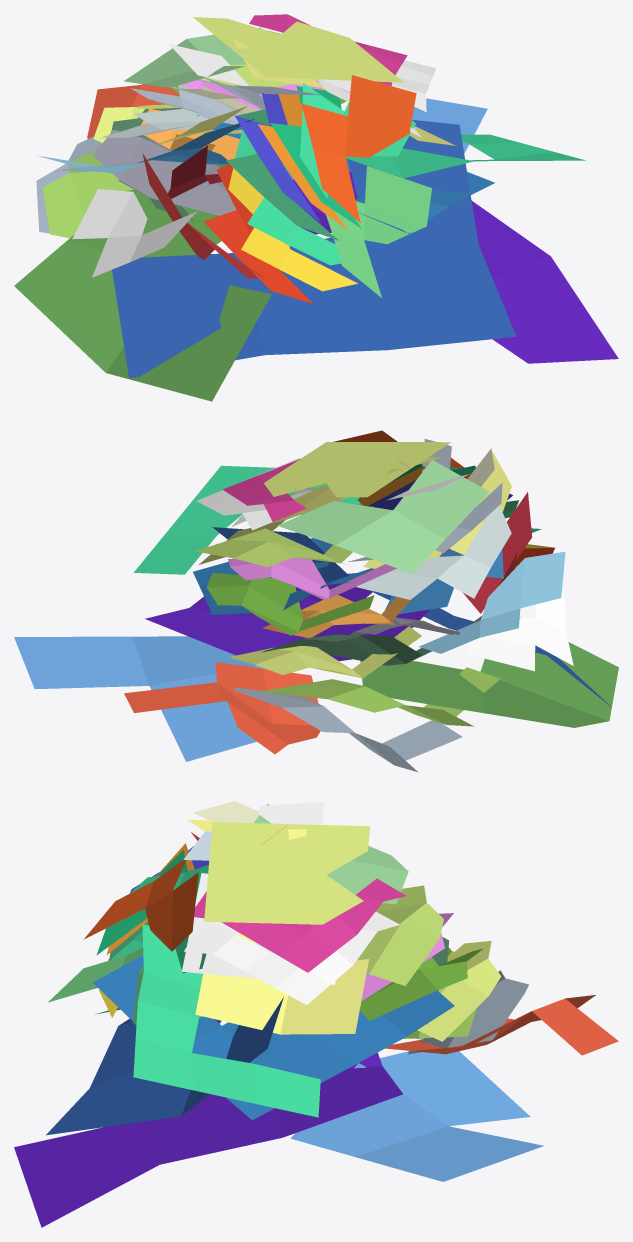
File: papelesCortados.fbx
The picture shows the model from 3 angles, top to bottom: view 1: azimuth 30°, elevation 25°; view 2: azimuth 150°, elevation 25°; view 3: azimuth 270°, elevation 25°; orthographic projection. The views are drawn at different scales.
Visible parts, largest first — view 1: papelesCortados; view 2: papelesCortados; view 3: papelesCortados.
Boxes of the visible parts, box(x1,y1,x2,y2) form: papelesCortados: box(14, 14, 618, 401); papelesCortados: box(14, 430, 618, 771); papelesCortados: box(14, 801, 618, 1227).
Size of the model in its own units: 79.17 by 40.62 by 79.71.
